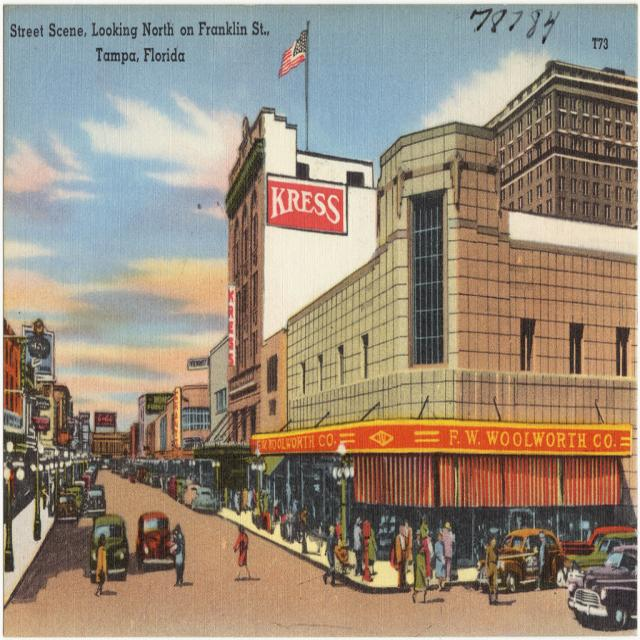car: (134, 510, 173, 569)
